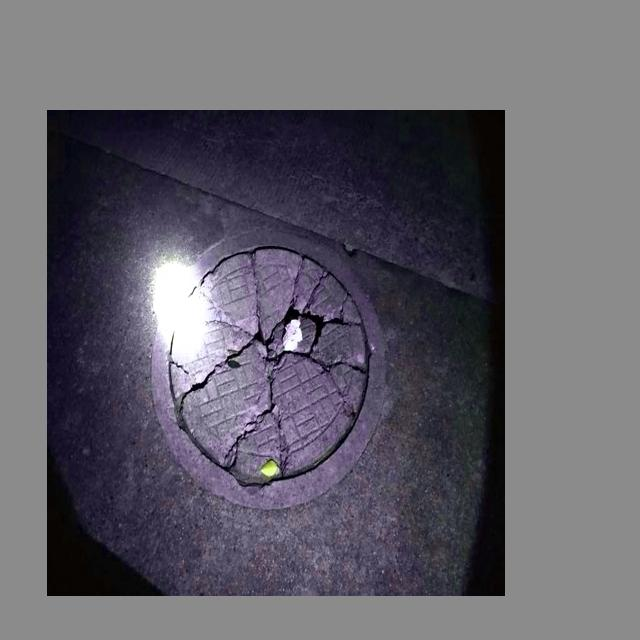broke: (142, 235, 393, 498)
